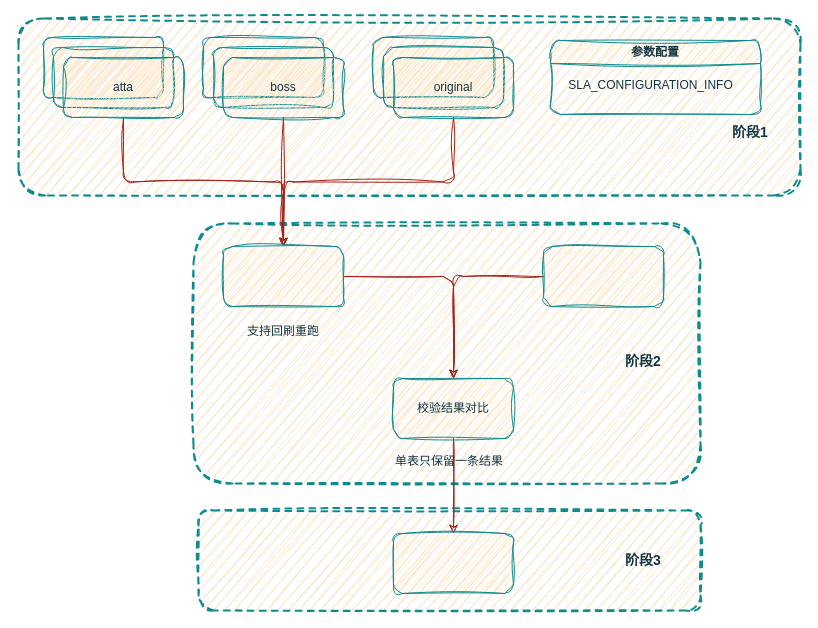
The diagram is 818 pixels wide and 628 high, and some of its shapes have lost their labels. Each missing label, with the box of its shape:
ods等效计算抽样结果: (222, 246, 344, 306)
实时dwd抽样: (542, 246, 664, 306)
校验告警驱动: (392, 532, 514, 594)
